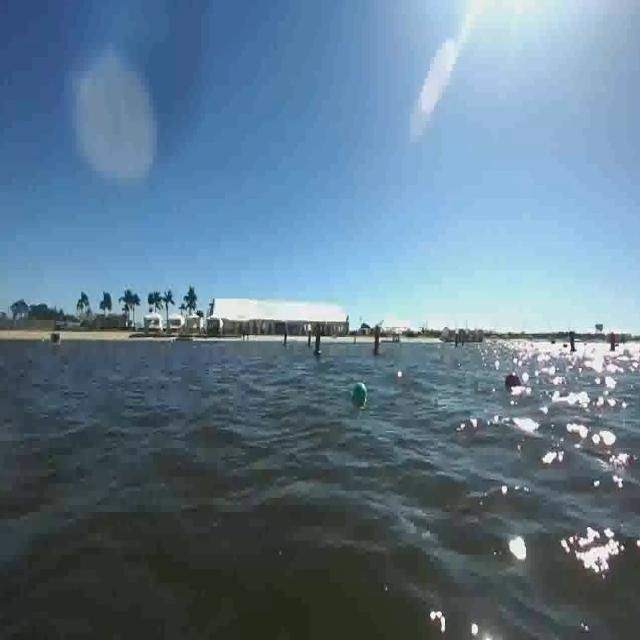green-buoy: (352, 380, 368, 406)
green-column-buoy: (314, 329, 323, 357)
red-column-buoy: (372, 322, 381, 357)
